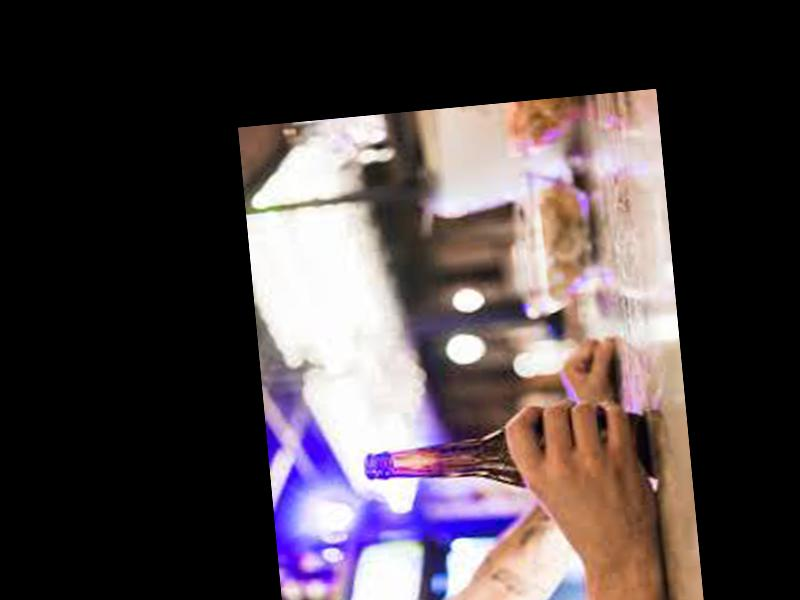Beer: (361, 412, 650, 501)
